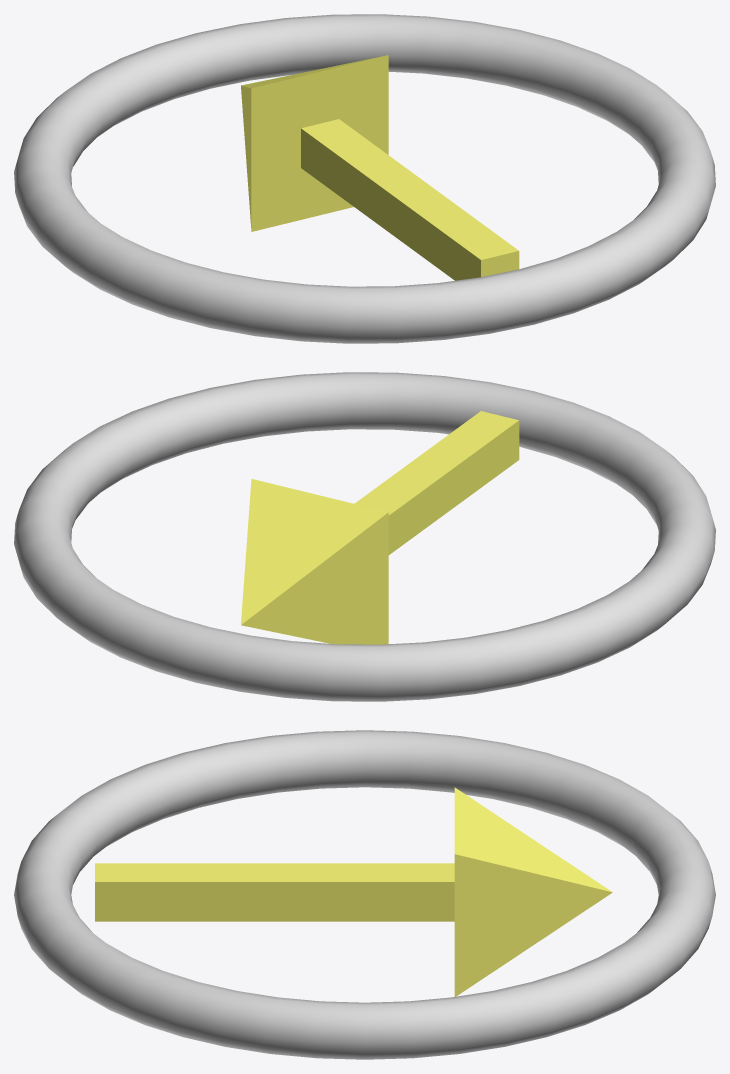
File: UpDownPolje.fbx
3 views of the same model, one above another, from view 1: azimuth 30°, elevation 25°; view 2: azimuth 150°, elevation 25°; view 3: azimuth 270°, elevation 25° (orthographic).
Parts seen in each view (by area): view 1: Torus, Cube.001; view 2: Torus, Cube.001; view 3: Torus, Cube.001.
Part boxes in pixels (x1,y1,x2,y2): Torus: [14, 14, 715, 343]; Cube.001: [241, 55, 519, 280]; Torus: [14, 372, 715, 701]; Cube.001: [241, 411, 519, 644]; Torus: [14, 730, 715, 1059]; Cube.001: [95, 787, 612, 996].
Bounding box in the file's own units: 196 × 44.19 × 196.
